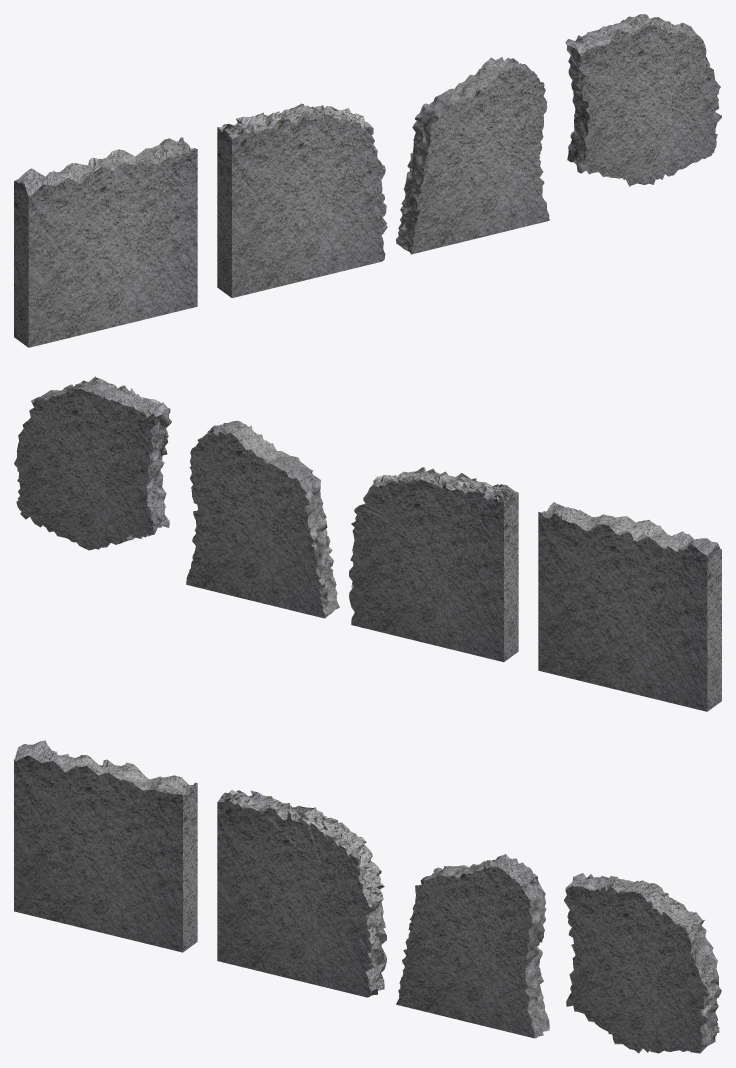
The model's file is BrokenConcrete.fbx.
The picture shows the model from 3 angles, top to bottom: view 1: azimuth 30°, elevation 25°; view 2: azimuth 150°, elevation 25°; view 3: azimuth 330°, elevation 25°; orthographic projection.
Parts seen in each view (by area): view 1: BrokenConcrete_A, BrokenConcrete_B, BrokenConcrete_C, BrokenConcrete_D; view 2: BrokenConcrete_A, BrokenConcrete_B, BrokenConcrete_C, BrokenConcrete_D; view 3: BrokenConcrete_A, BrokenConcrete_B, BrokenConcrete_D, BrokenConcrete_C.
Boxes of the visible parts, x1,y1,x2,y2 form: BrokenConcrete_A: (14, 137, 197, 347); BrokenConcrete_B: (217, 103, 387, 297); BrokenConcrete_C: (396, 57, 549, 254); BrokenConcrete_D: (565, 14, 721, 186); BrokenConcrete_A: (538, 502, 721, 711); BrokenConcrete_B: (349, 467, 518, 662); BrokenConcrete_C: (186, 420, 339, 618); BrokenConcrete_D: (14, 376, 171, 550); BrokenConcrete_A: (14, 740, 197, 952); BrokenConcrete_B: (217, 790, 386, 997); BrokenConcrete_D: (564, 873, 721, 1053); BrokenConcrete_C: (396, 854, 549, 1038).
Bounding box in the file's own units: 411 × 15.06 × 98.57.
Materials: 4 (4 with a texture image).
